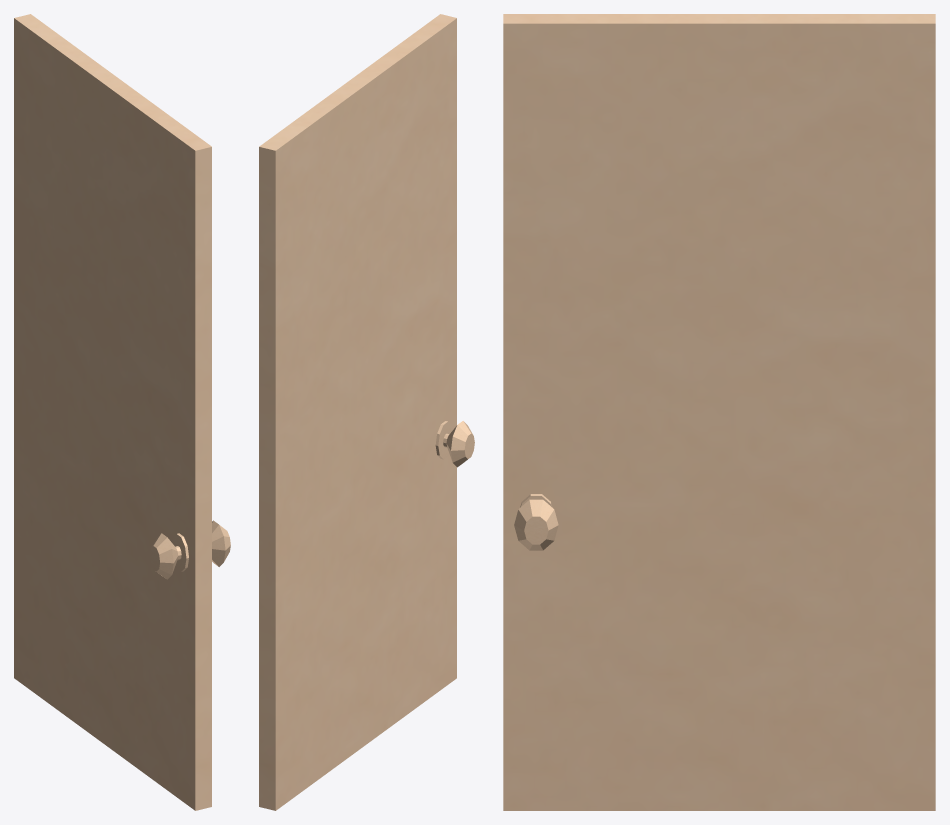
The model's file is Door_Jamb_B.fbx.
The picture shows the model from 3 angles, left to right: view 1: azimuth 30°, elevation 25°; view 2: azimuth 150°, elevation 25°; view 3: azimuth 270°, elevation 25°; orthographic projection. The views are drawn at different scales.
Parts seen in each view (by area): view 1: Door_Jamb_B; view 2: Door_Jamb_B; view 3: Door_Jamb_B.
Boxes of the visible parts, bbox=[...] form: Door_Jamb_B: bbox=[14, 14, 230, 810]; Door_Jamb_B: bbox=[259, 14, 474, 810]; Door_Jamb_B: bbox=[503, 14, 935, 810].
Size of the model in its own units: 0.2009 by 1.79 by 0.8918.
Materials: 1 (1 with a texture image).
